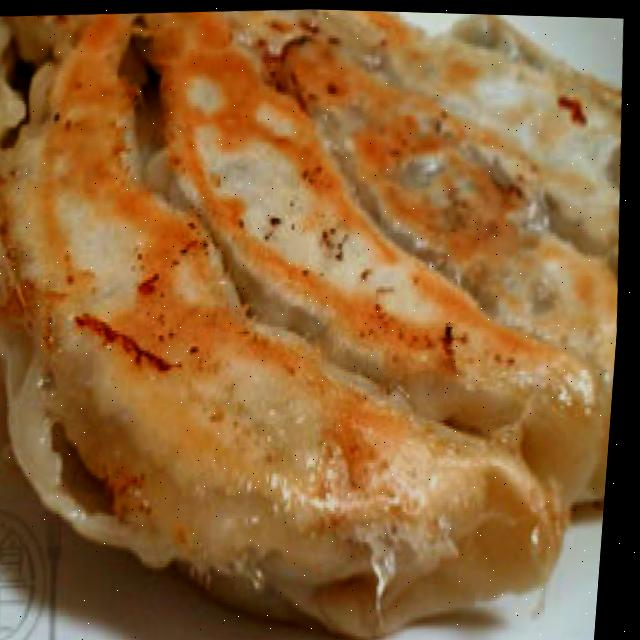带馅早点: (0, 0, 640, 633)
